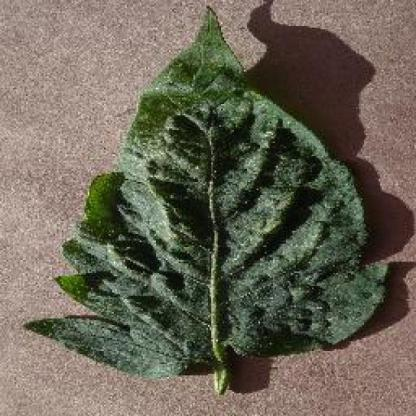Strawberry_Blossom_Blight: (115, 300, 181, 366), (144, 172, 185, 244), (241, 119, 280, 183), (245, 193, 289, 234), (298, 228, 328, 258)
